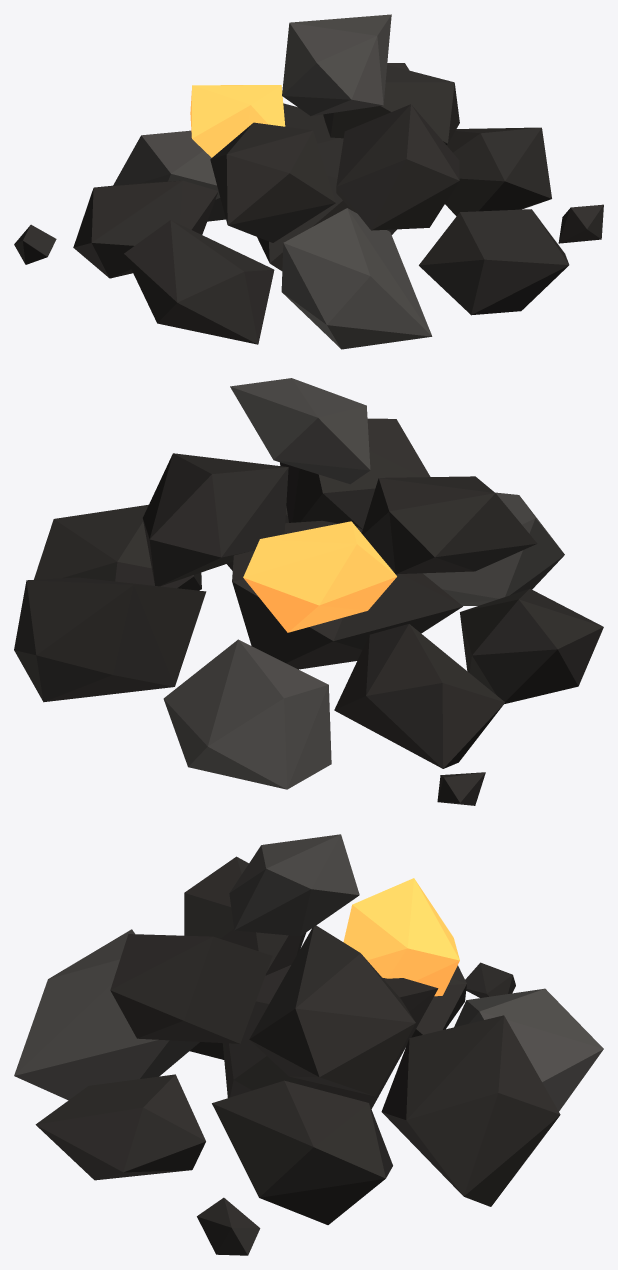
Rendered from it-charcoal.glb.
The picture shows the model from 3 angles, top to bottom: view 1: azimuth 30°, elevation 25°; view 2: azimuth 150°, elevation 25°; view 3: azimuth 270°, elevation 25°; orthographic projection. The views are drawn at different scales.
Visible parts, largest first — view 1: lump_ground_05, lump_ground_04, lump_mid_03, lump_ground_06, lump_mid_02, lump_top, lump_ground_03, lump_ground_00, lump_mid_01, lump_mid_00, lump_ground_02, lump_core (+2 smaller); view 2: lump_ground_01, lump_ground_02, lump_ground_03, lump_mid_00, lump_mid_02, lump_ground_04, lump_mid_01, lump_core, lump_top, lump_ground_00, lump_mid_03, lump_ground_05 (+1 smaller); view 3: lump_ground_01, lump_mid_00, lump_ground_00, lump_mid_03, lump_ground_05, lump_ground_06, lump_top, lump_mid_01, lump_ground_02, lump_core, lump_mid_02, chip_00 (+2 smaller).
Boxes of the visible parts, x1=… form: lump_ground_05: x1=281, y1=208, x2=432, y2=349; lump_ground_04: x1=124, y1=220, x2=274, y2=344; lump_mid_03: x1=336, y1=104, x2=459, y2=230; lump_ground_06: x1=419, y1=209, x2=569, y2=315; lump_mid_02: x1=210, y1=122, x2=335, y2=242; lump_top: x1=282, y1=14, x2=391, y2=115; lump_ground_03: x1=73, y1=180, x2=218, y2=278; lump_ground_00: x1=445, y1=127, x2=551, y2=216; lump_mid_01: x1=190, y1=85, x2=285, y2=157; lump_mid_00: x1=323, y1=65, x2=459, y2=144; lump_ground_02: x1=113, y1=130, x2=225, y2=221; lump_core: x1=257, y1=103, x2=396, y2=270; lump_ground_01: x1=14, y1=577, x2=206, y2=702; lump_ground_02: x1=163, y1=639, x2=331, y2=789; lump_ground_03: x1=334, y1=624, x2=504, y2=768; lump_mid_00: x1=142, y1=453, x2=288, y2=586; lump_mid_02: x1=361, y1=476, x2=537, y2=574; lump_ground_04: x1=460, y1=588, x2=603, y2=703; lump_mid_01: x1=243, y1=521, x2=396, y2=632; lump_core: x1=232, y1=520, x2=462, y2=669; lump_top: x1=230, y1=378, x2=370, y2=484; lump_ground_00: x1=34, y1=504, x2=201, y2=590; lump_mid_03: x1=280, y1=418, x2=430, y2=529; lump_ground_05: x1=423, y1=492, x2=564, y2=605; lump_ground_01: x1=381, y1=1015, x2=560, y2=1206; lump_mid_00: x1=249, y1=925, x2=415, y2=1096; lump_ground_00: x1=212, y1=1080, x2=392, y2=1224; lump_mid_03: x1=110, y1=934, x2=272, y2=1043; lump_ground_05: x1=14, y1=929, x2=199, y2=1100; lump_ground_06: x1=35, y1=1074, x2=205, y2=1180; lump_top: x1=229, y1=834, x2=359, y2=936; lump_mid_01: x1=343, y1=878, x2=459, y2=996; lump_ground_02: x1=454, y1=988, x2=603, y2=1111; lump_core: x1=222, y1=965, x2=438, y2=1108; lump_mid_02: x1=184, y1=856, x2=306, y2=975; chip_00: x1=197, y1=1197, x2=260, y2=1255.
Size of what is drawn, in the model's own units: 0.281 by 0.1353 by 0.2619.
